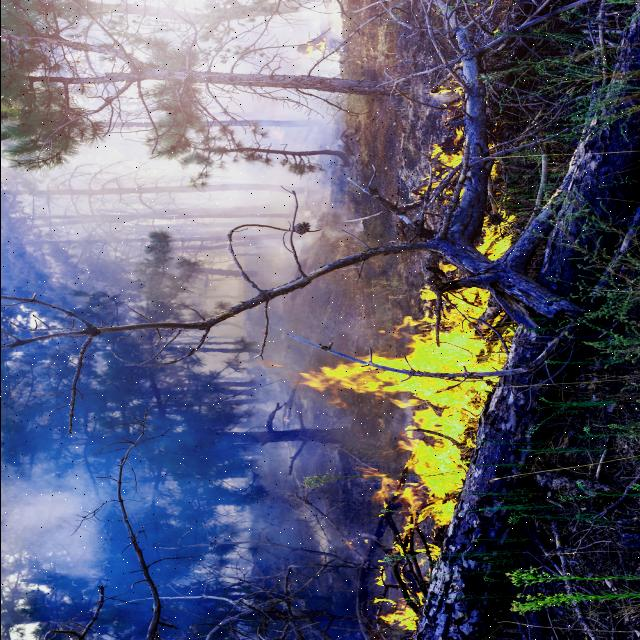api: (314, 349, 507, 407), (396, 404, 478, 510), (412, 284, 512, 348), (390, 508, 465, 561), (461, 222, 517, 260), (373, 599, 424, 634), (431, 132, 461, 164)
asap: (13, 437, 115, 564)
